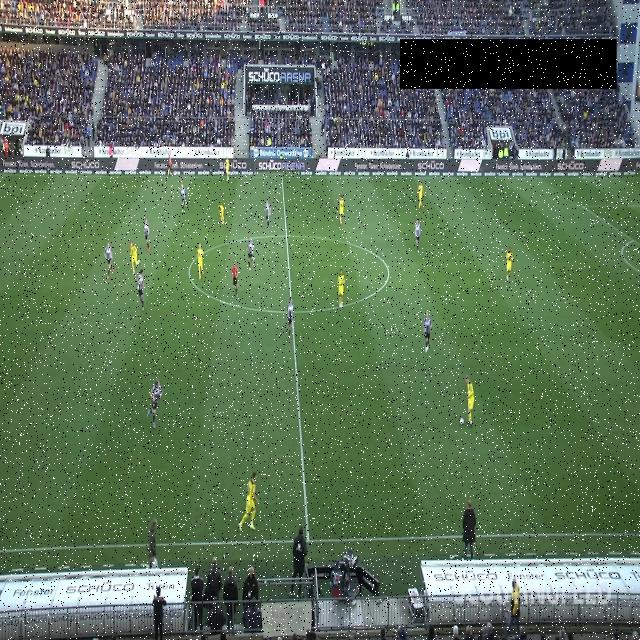Ball: (459, 418, 464, 427)
Referee: (231, 262, 240, 297), (167, 154, 174, 179)
TEAM 1: (239, 472, 258, 534), (465, 375, 474, 426), (129, 241, 141, 277), (338, 268, 346, 310), (506, 246, 514, 282), (197, 244, 204, 279), (417, 181, 424, 208), (339, 195, 345, 226), (218, 204, 225, 227), (224, 156, 230, 182)
TEAM 2: (147, 379, 163, 428), (423, 312, 432, 352), (286, 296, 294, 341), (105, 242, 114, 279), (137, 270, 145, 310), (246, 236, 255, 271), (414, 219, 421, 252), (143, 218, 150, 251), (180, 184, 187, 212), (264, 200, 271, 227)
